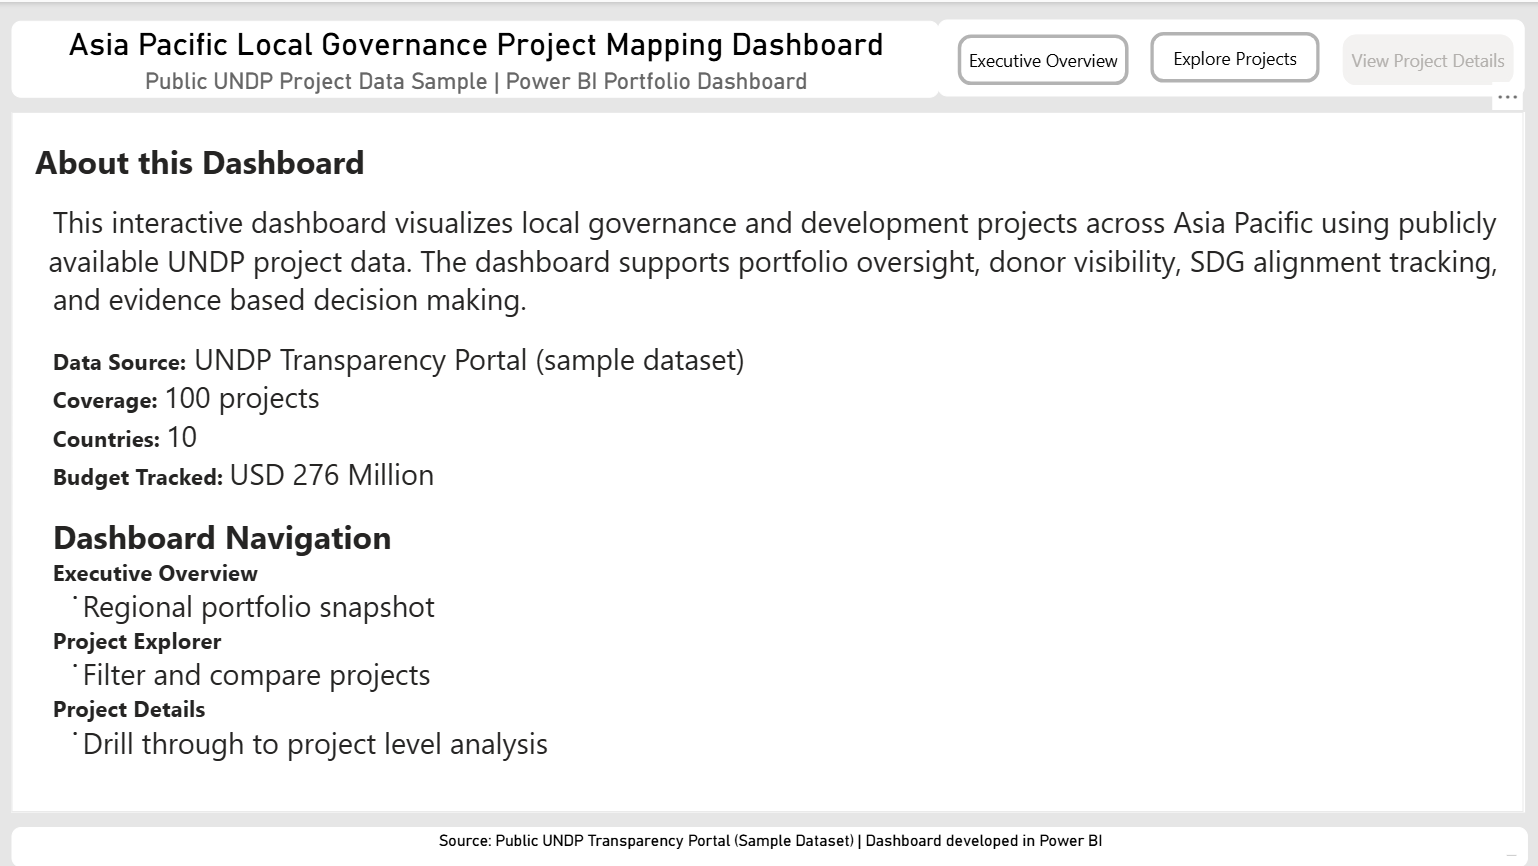

What the dashboard file says about the page in this screenshot:
{"tool":"powerbi","page":{"name":"Dashboard User Guide & Methodology","canvas":[1280,720],"ordinal":3},"visuals":[{"type":"shape","box":[781,14.8,488.2,64.3],"z":0,"group":"g1"},{"type":"textbox","title":"Asia Pacific Local Governance Project Mapping Dashboard","box":[9.9,16.1,771.1,64.3],"z":0},{"type":"group","id":"g1","title":"Group 4","box":[781,14.8,486.9,64.3],"z":1000},{"type":"actionButton","title":"Executive Overview","box":[958.2,25.5,141,42],"z":1000,"group":"g1"},{"type":"actionButton","title":"Executive Overview","box":[1117.8,26.8,142,42],"z":2000,"group":"g1"},{"type":"textbox","box":[9.9,91.4,1258,582],"z":2000},{"type":"textbox","title":"Source: Public UNDP Transparency Portal (Sample Dataset) | Dashboard developed in Power BI","box":[9.9,685.8,1260.5,33.4],"z":2001},{"type":"actionButton","title":"Executive Overview","box":[797.6,26.8,142,42],"z":3000,"group":"g1"}]}

Visuals, with their boxes in screenshot pixels (x1, y1, x2, y2), scaled from the page's 1280x720 canvas onto the 1538x866 screenshot:
shape: 938:18:1525:95
"Asia Pacific Local Governance Project Mapping Dashboard" textbox: 12:19:938:97
"Group 4" group: 938:18:1523:95
"Executive Overview" actionButton: 1151:31:1321:81
"Executive Overview" actionButton: 1343:32:1514:83
textbox: 12:110:1523:810
"Source: Public UNDP Transparency Portal (Sample Dataset) | Dashboard developed in Power BI" textbox: 12:825:1526:865
"Executive Overview" actionButton: 958:32:1129:83
